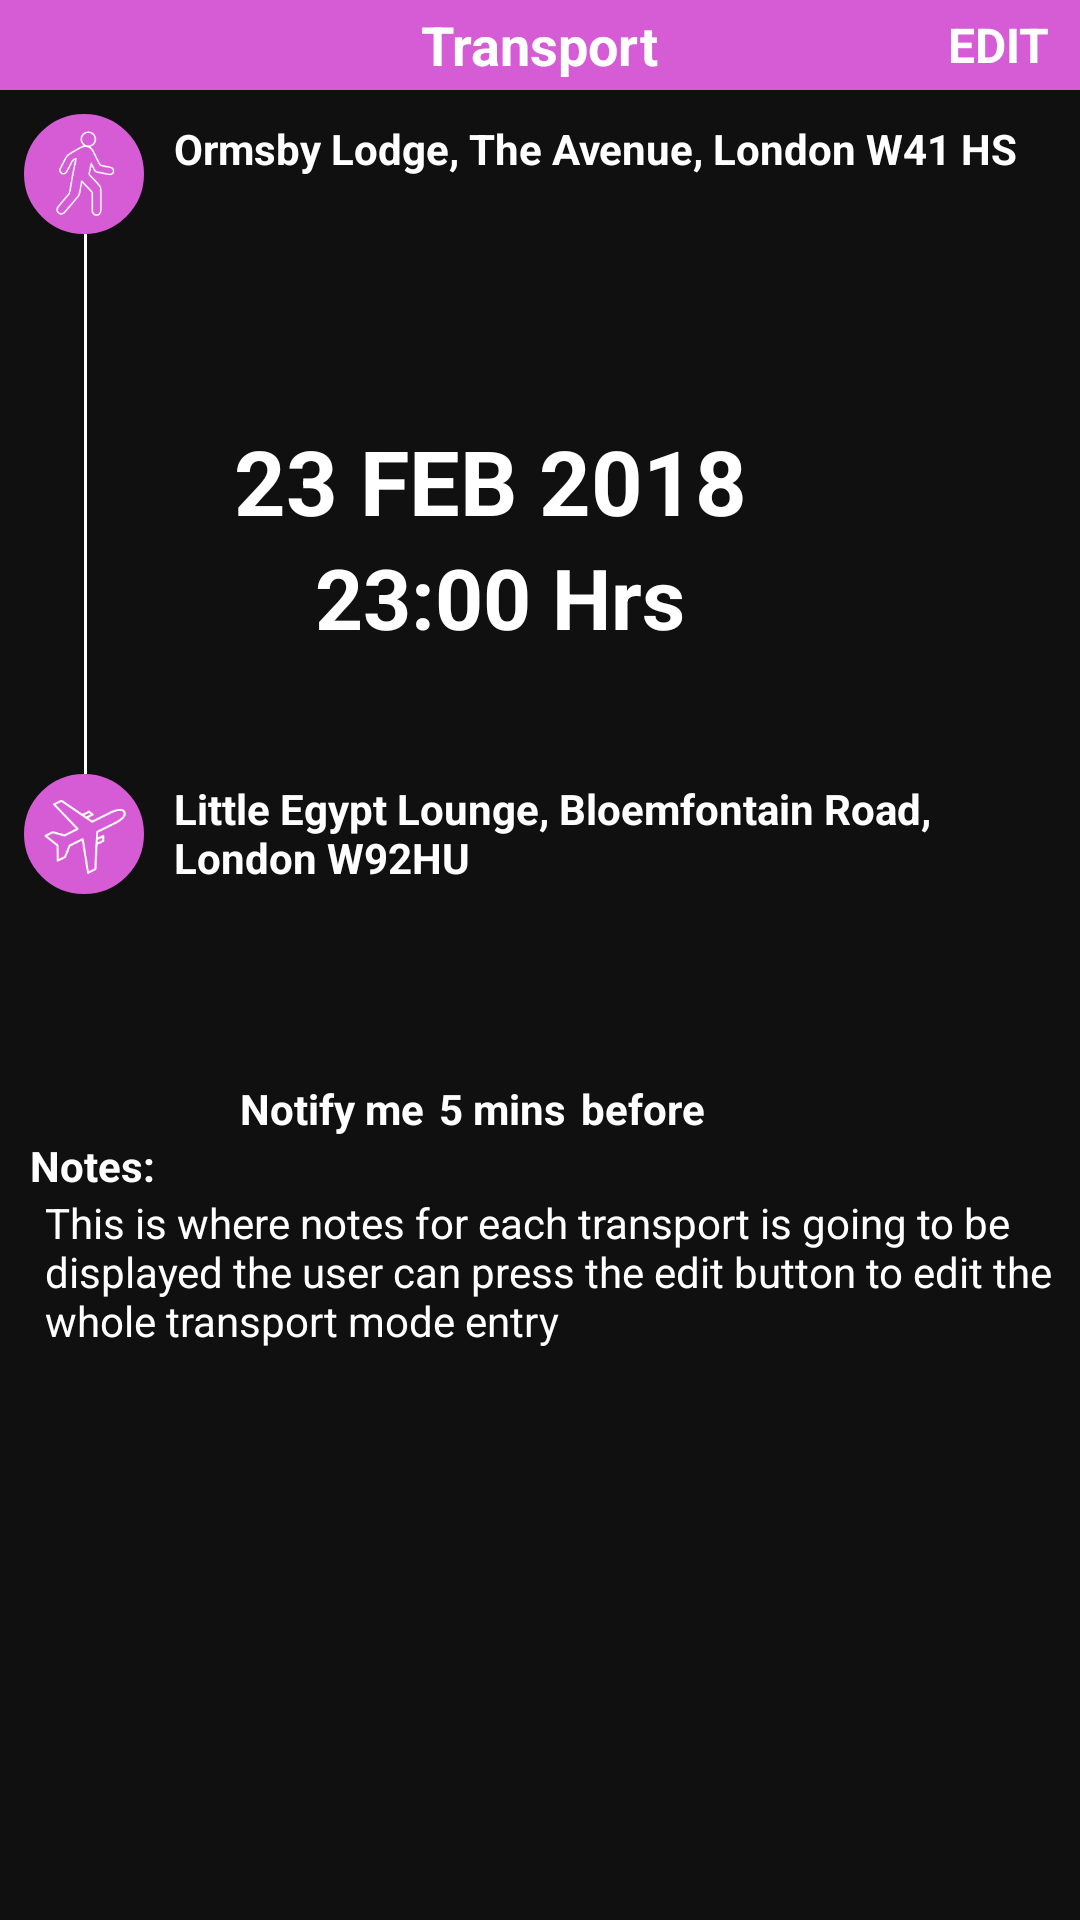

Where icons sit on this 1080w x 1920h app screen, as [left=x1, top=y1, right=x2, bottom=y2]:
aeroplane transport: [left=24, top=774, right=144, bottom=894]
walk transport: [left=24, top=114, right=144, bottom=234]
